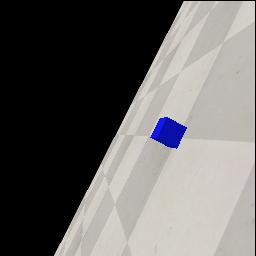box: (150, 117, 187, 149)
